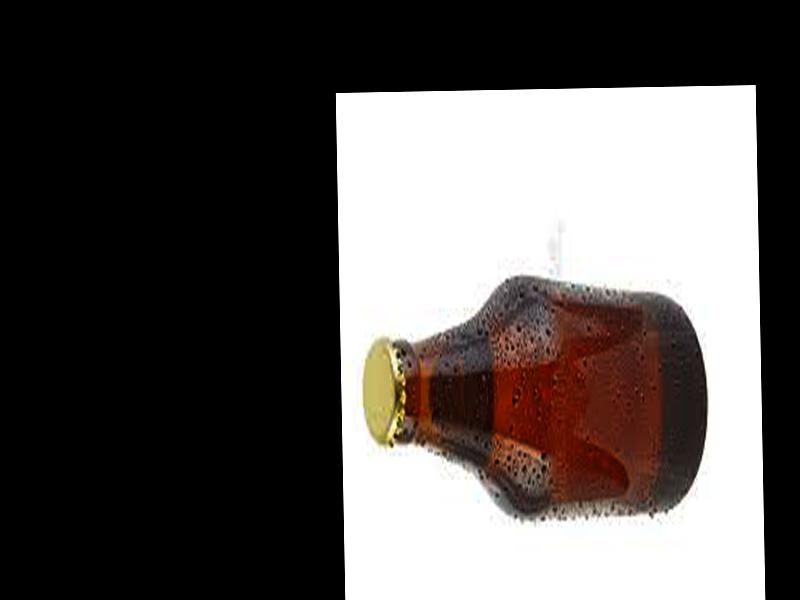Beer: (361, 290, 707, 517)
